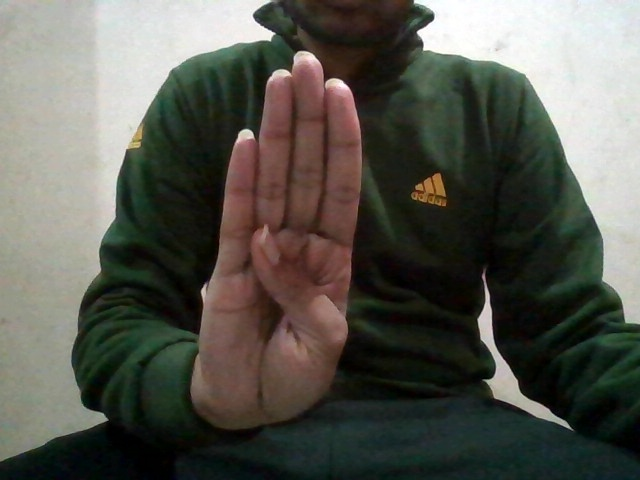B: (190, 47, 371, 434)
